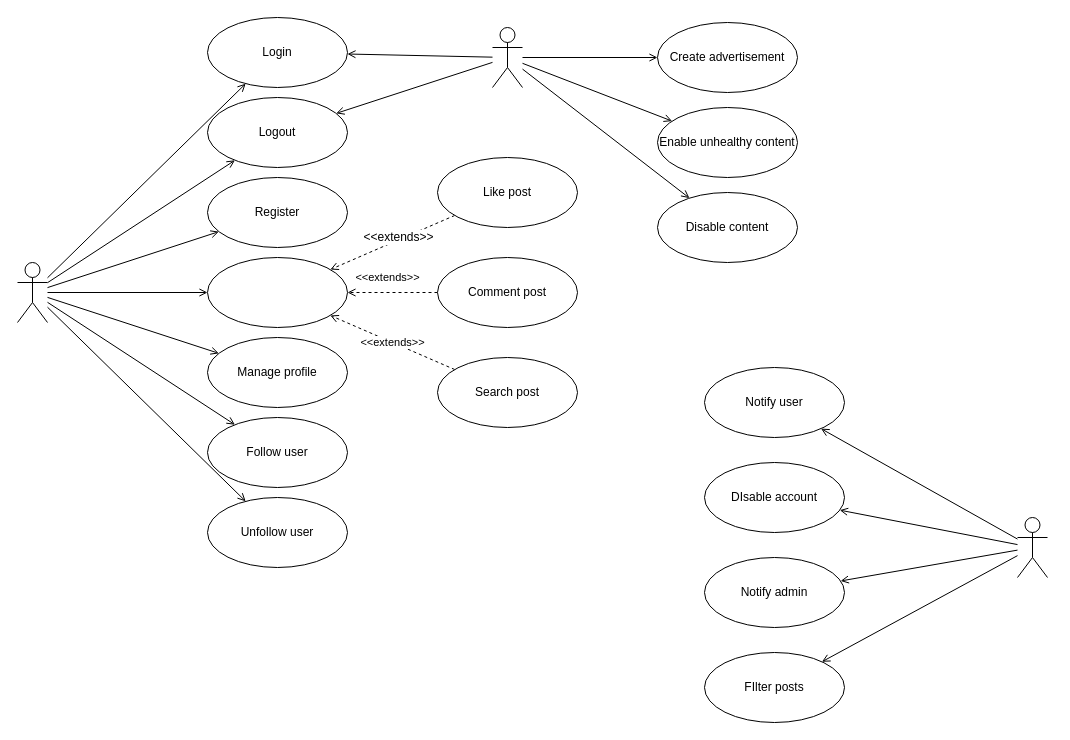
The diagram is 1070 pixels wide and 740 high, and some of its shapes have lost their labels. Here are the shapes that lost their labels. From the top down, the centre of each, then its label:
At point 507,57: "Admin".
At point 32,292: "User".
At point 277,292: "Manage post".
At point 1032,547: "System".
